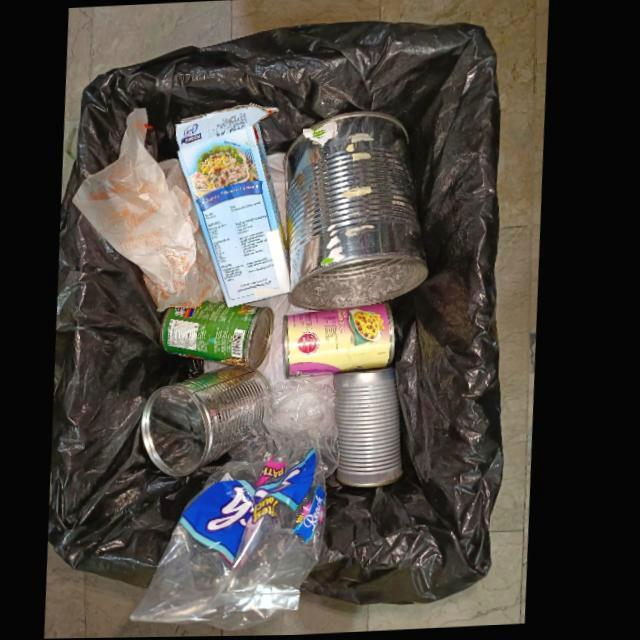aluminum: (291, 106, 435, 312), (149, 366, 272, 478), (340, 366, 409, 488), (291, 301, 400, 376), (165, 301, 278, 369)
food_wrapper: (76, 111, 229, 311)
plastic_bag: (138, 378, 346, 633)
